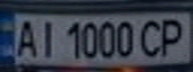0: (115, 18, 139, 58), (78, 18, 100, 60), (100, 18, 118, 60)
1: (60, 18, 81, 60)
A: (12, 16, 42, 58)
C: (136, 16, 166, 57)
I: (33, 17, 60, 59)
P: (154, 15, 190, 56)
